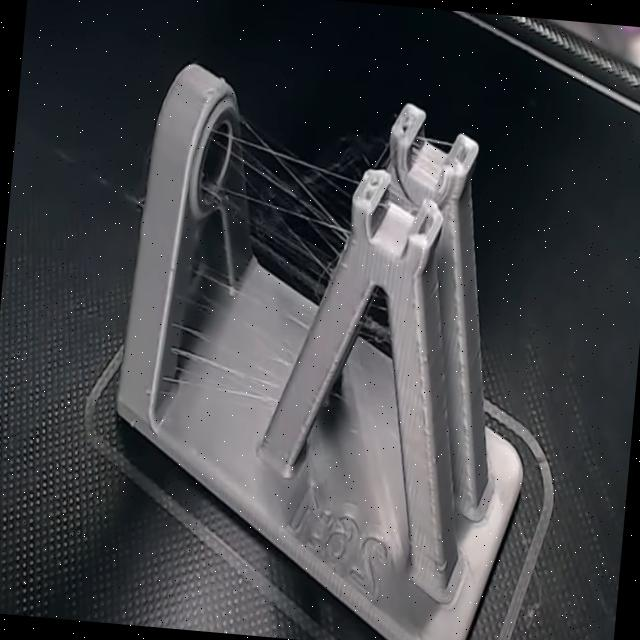stringing: (209, 81, 387, 252), (160, 248, 302, 420)
